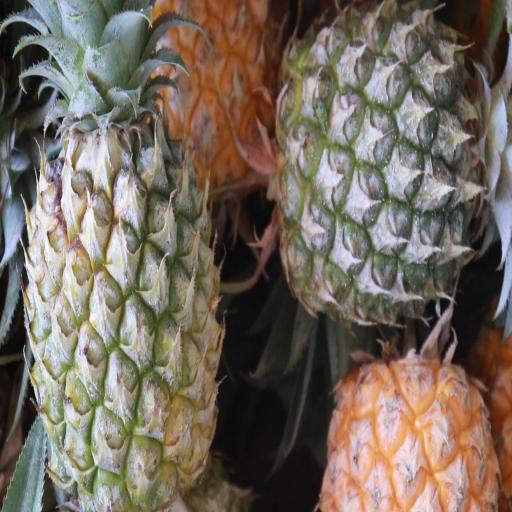Pineapple - v8 v1: (312, 348, 499, 512), (156, 0, 278, 186)
